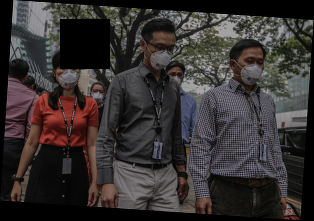with_mask: (146, 40, 177, 73), (236, 55, 266, 87), (57, 62, 82, 90), (167, 70, 184, 87), (90, 87, 105, 104)
